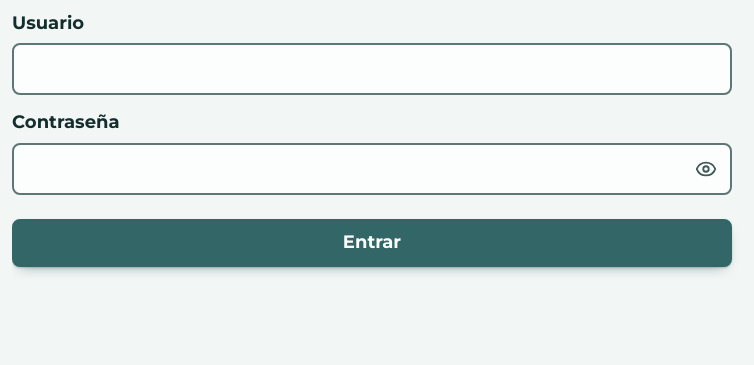
it: LoginForm › hides the password again after a failed sign in, even if it was shown
Type "junta.uno" into the field labelled "Usuario" at (372, 69), box top-left (12, 43), bottom-right (732, 95)
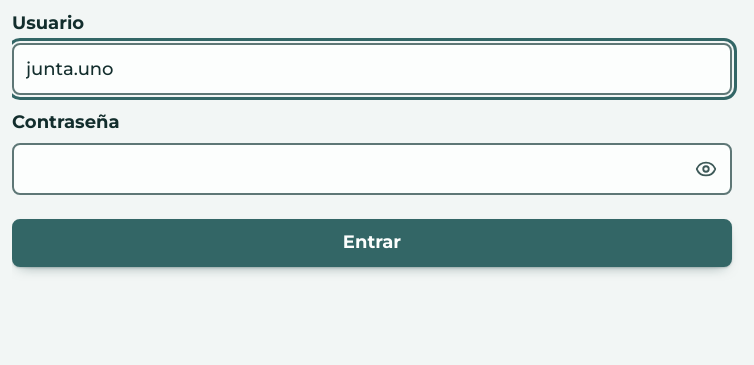
Type "contraseña larga de prueba" into the password field labelled "Contraseña" at (372, 169), box top-left (12, 143), bottom-right (732, 195)
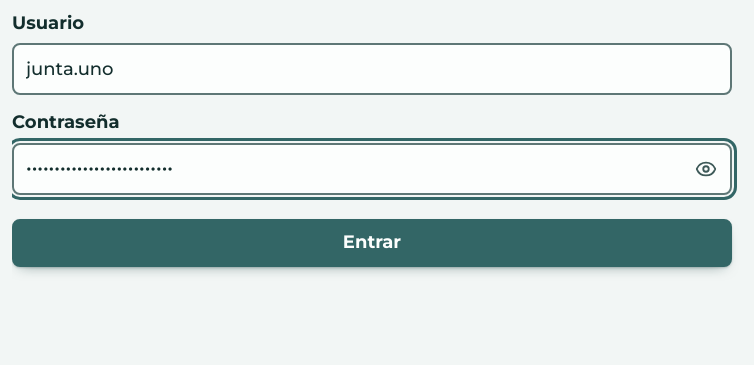
Click the button named "Mostrar contraseña" at (706, 169), box top-left (682, 145), bottom-right (730, 193)
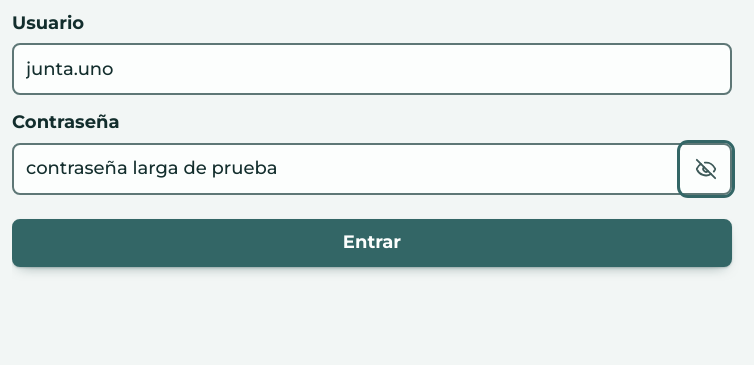
Expected: the field labelled "Contraseña" shows its text, top-left (12, 143), bottom-right (732, 195)
Click the button "Entrar" at (372, 243), box top-left (12, 219), bottom-right (732, 267)
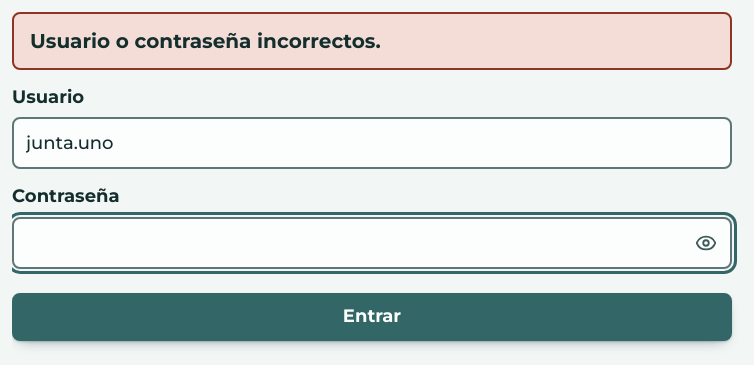
Expected: the message reads "Usuario o contraseña incorrectos.", top-left (30, 29), bottom-right (381, 53)
Expected: the password field labelled "Contraseña" is empty, top-left (12, 217), bottom-right (732, 269)
